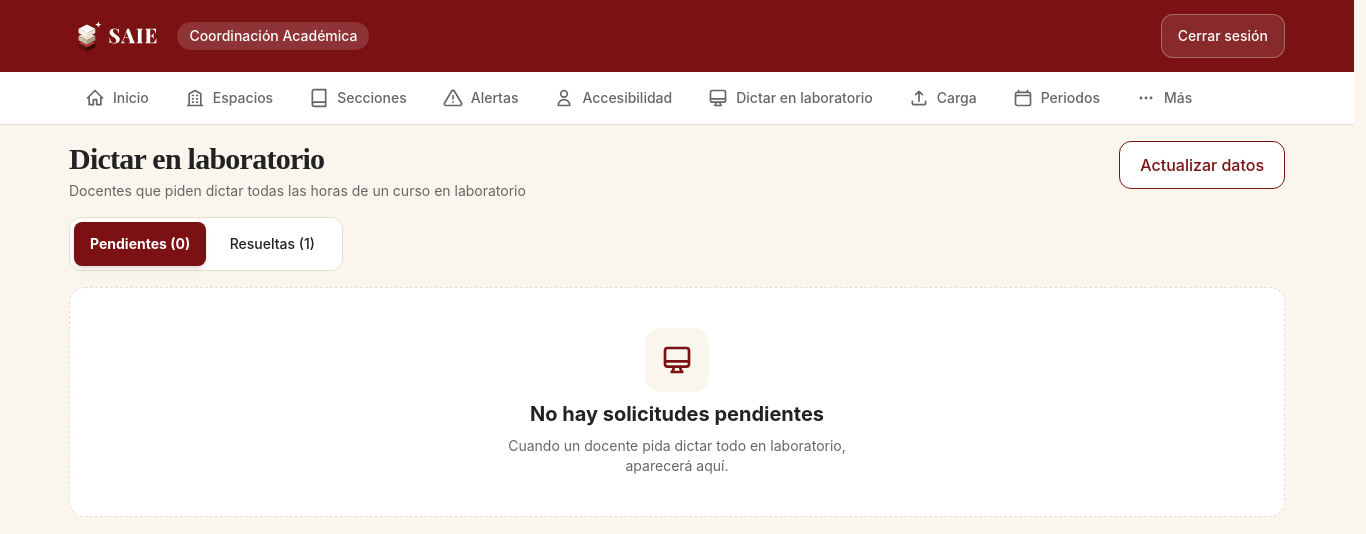
it: SolicitudesLaboratorioAdminPage (Issue 7.17) › las resueltas muestran el resultado o el motivo, sin botones
The width and height of the screenshot is (1366, 534).
expect the heading "No hay solicitudes pendientes" is shown: met, box [530, 400, 824, 428]
Click the button "Resueltas (1)".
click(272, 244)  # box [206, 222, 338, 266]
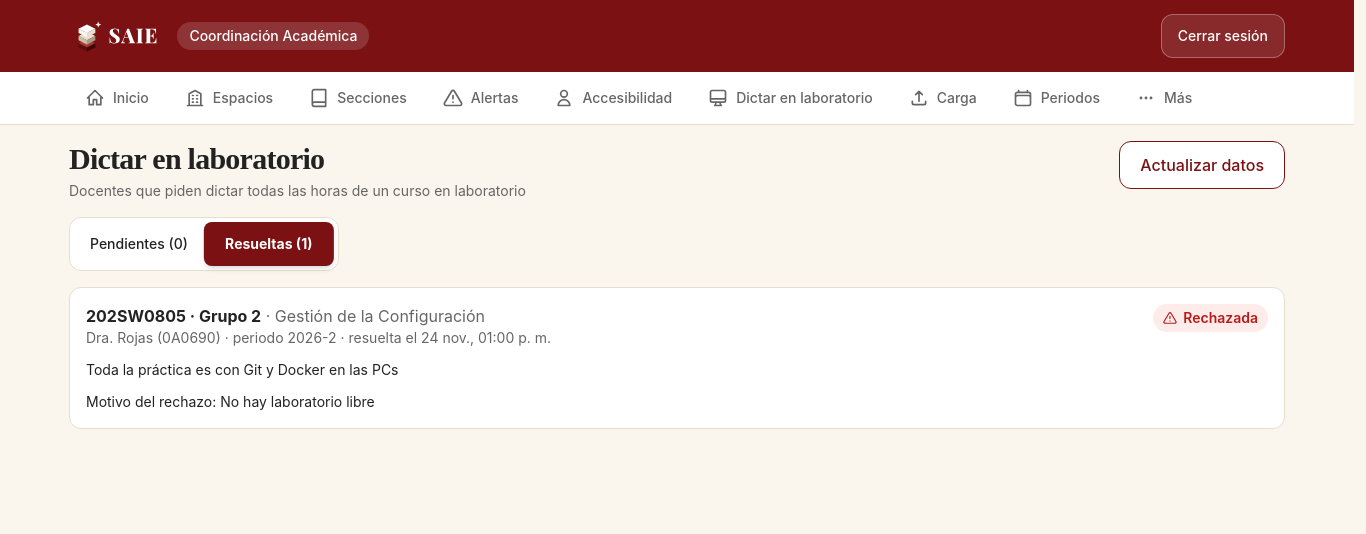
expect the text "Motivo del rechazo: No hay laboratorio libre" is shown: met, box [86, 393, 375, 410]
